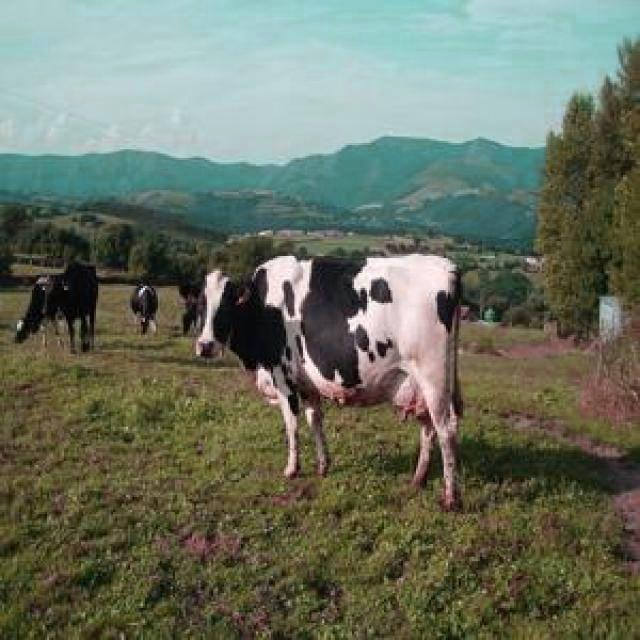cow: (198, 254, 460, 509)
